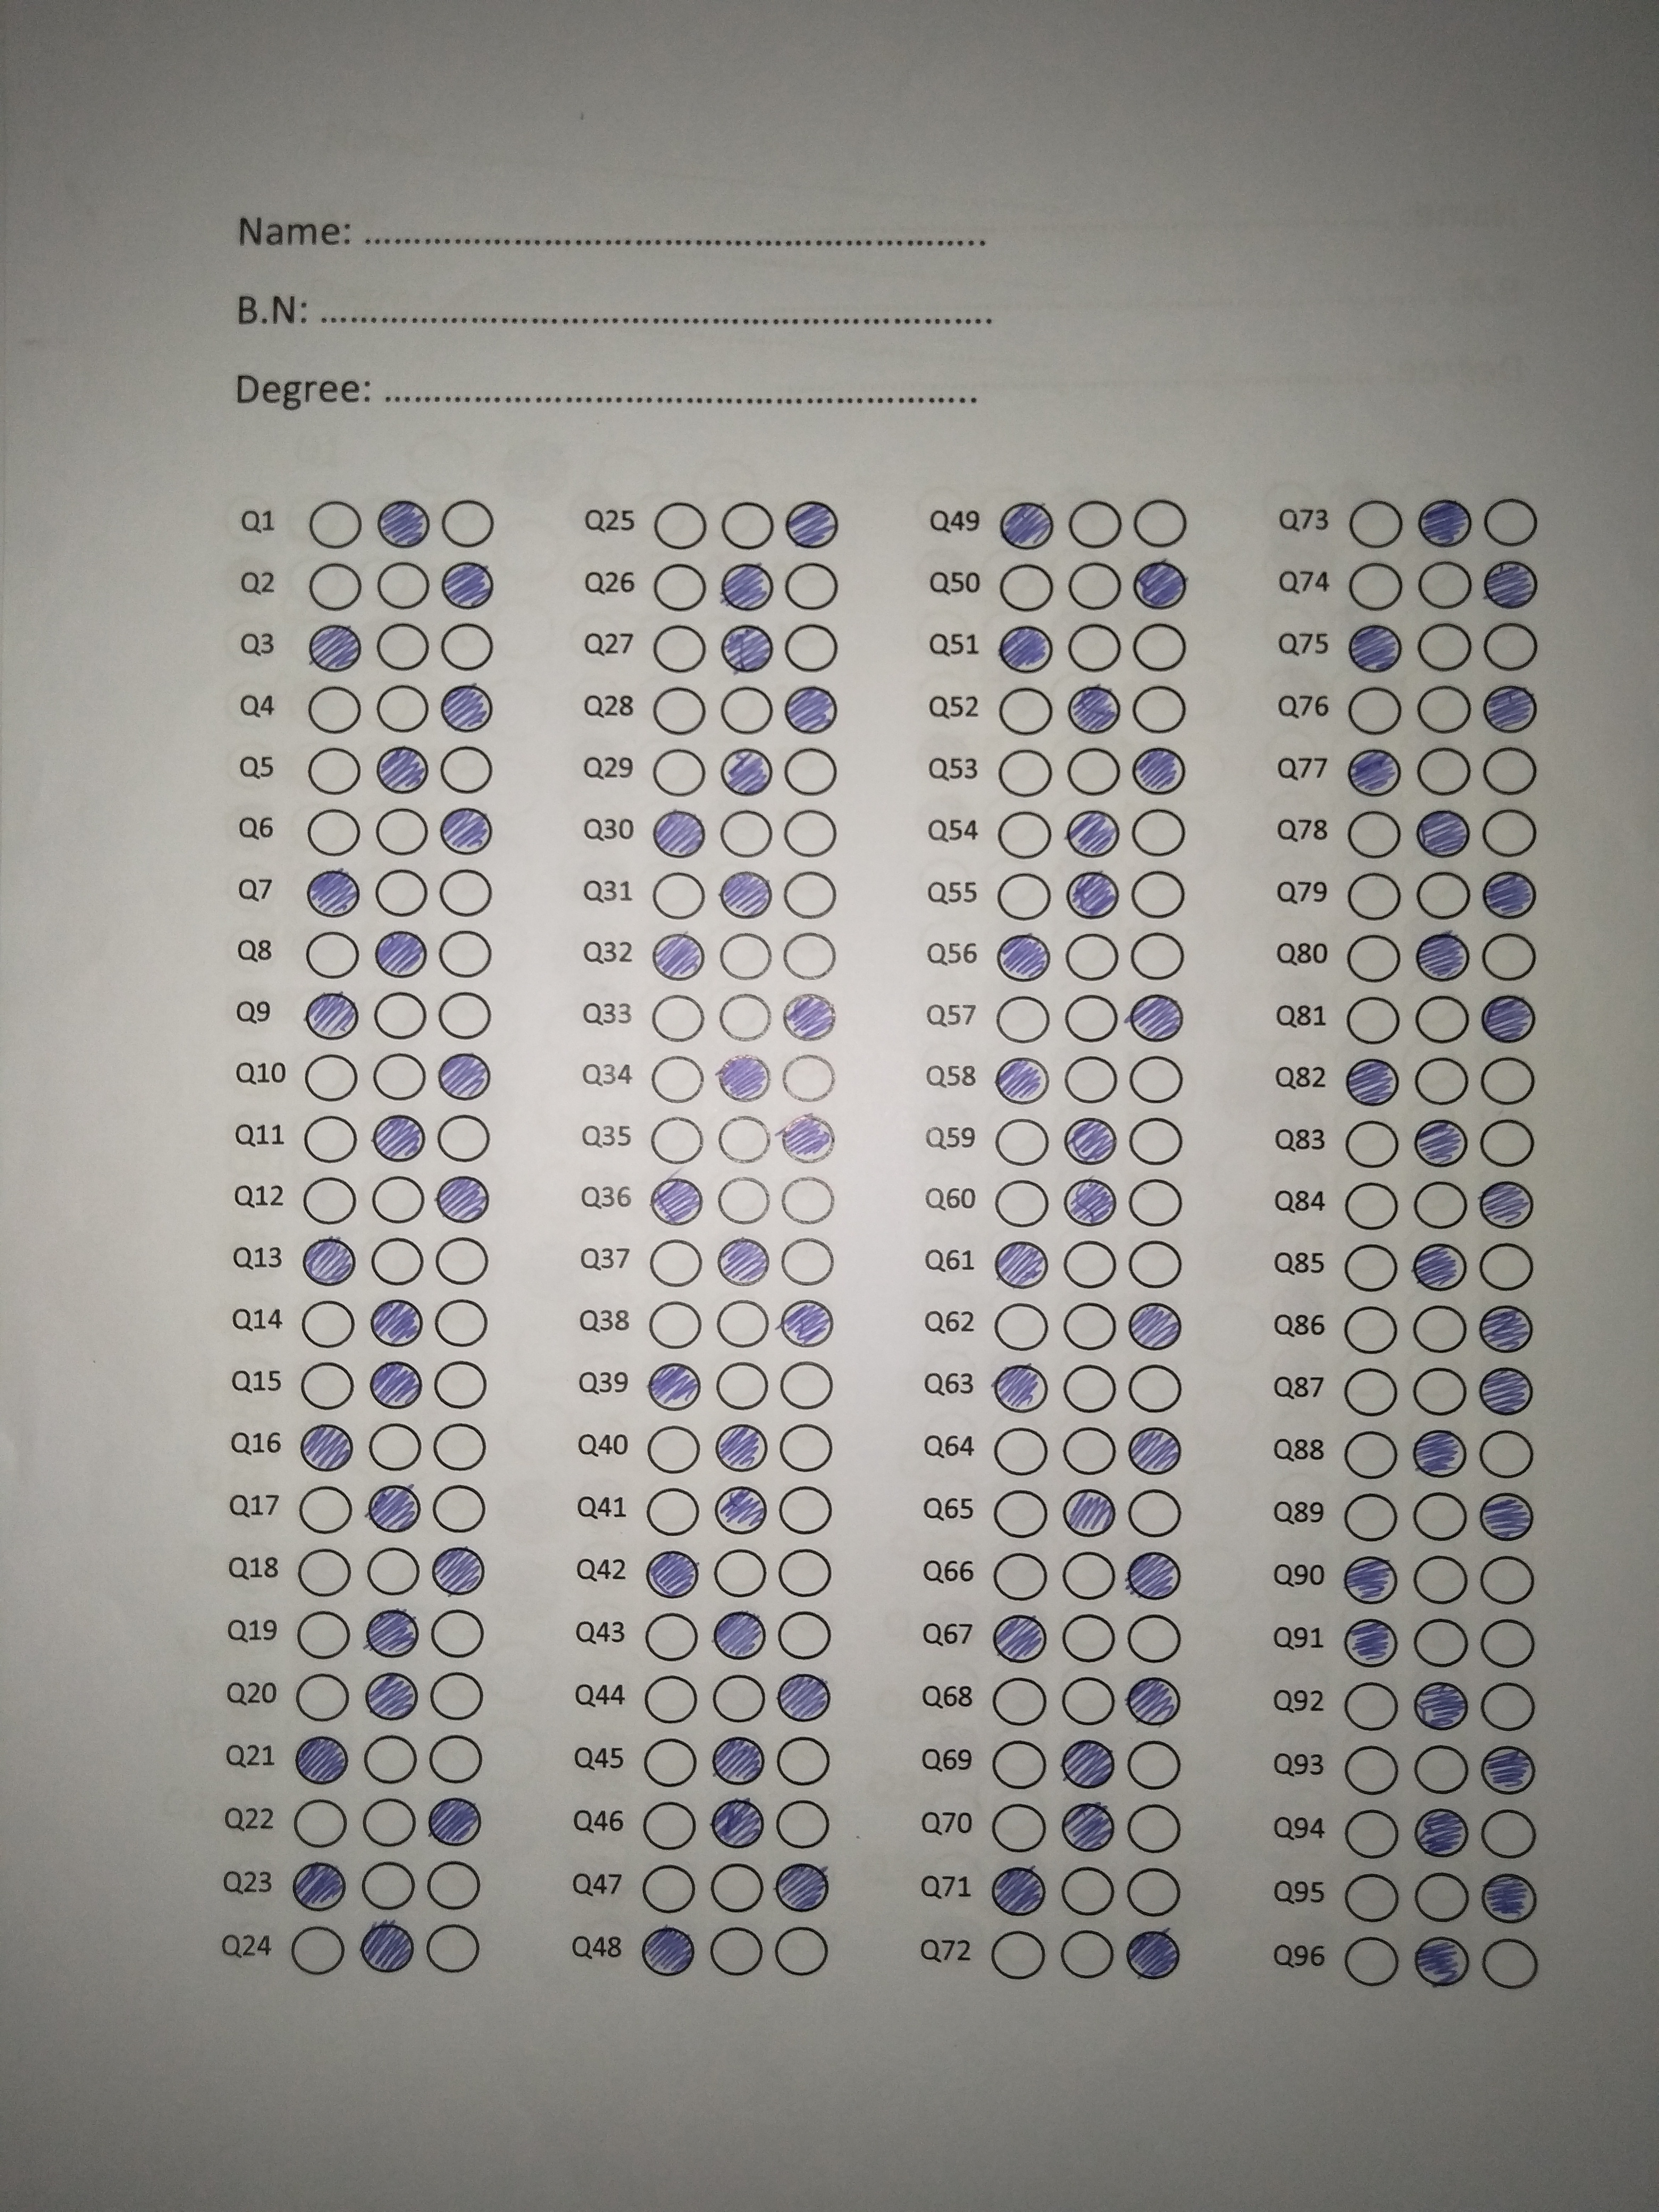not-c: (436, 611, 502, 686), (1405, 1608, 1474, 1676), (1347, 799, 1413, 869), (1474, 1611, 1542, 1677), (1474, 1677, 1542, 1743), (634, 681, 709, 740), (636, 1609, 708, 1670), (1117, 1608, 1190, 1667), (1342, 1669, 1410, 1731), (988, 559, 1060, 618), (985, 1547, 1056, 1606), (986, 1298, 1060, 1355), (437, 493, 502, 557), (1478, 1932, 1542, 1996), (772, 1482, 838, 1545), (988, 1115, 1054, 1177), (305, 493, 366, 561), (650, 495, 718, 556), (1124, 867, 1192, 928), (1054, 1049, 1122, 1109), (1121, 1174, 1188, 1235), (296, 1115, 368, 1172), (1408, 1052, 1480, 1109), (714, 495, 777, 559), (1478, 1047, 1542, 1109), (781, 742, 842, 808), (1480, 493, 1546, 554), (1344, 681, 1410, 742), (293, 1298, 361, 1357), (1054, 1862, 1122, 1921), (988, 747, 1058, 805), (1410, 873, 1480, 930), (777, 927, 849, 982), (1122, 1362, 1194, 1418), (1060, 927, 1122, 989), (429, 1359, 490, 1423), (291, 1670, 355, 1731), (362, 1731, 423, 1796), (708, 1543, 772, 1604), (1478, 801, 1542, 862), (1478, 1115, 1542, 1176), (305, 683, 364, 749), (1061, 624, 1127, 683), (995, 681, 1061, 740), (1338, 1867, 1405, 1926), (425, 1480, 493, 1538), (1337, 1428, 1405, 1486), (288, 1611, 357, 1667), (1403, 1491, 1473, 1547), (288, 1796, 359, 1850), (437, 742, 498, 805), (288, 1919, 350, 1980), (986, 1484, 1049, 1545), (434, 1231, 493, 1296), (718, 681, 775, 747), (1060, 496, 1126, 554), (985, 1425, 1051, 1482), (364, 869, 432, 925), (1337, 1244, 1406, 1298), (641, 747, 713, 799), (366, 1414, 425, 1477), (988, 1925, 1051, 1984), (300, 927, 364, 984), (432, 988, 497, 1045), (647, 1052, 711, 1109), (1126, 686, 1190, 744), (986, 1797, 1051, 1855), (643, 622, 716, 672), (375, 557, 441, 613), (298, 1052, 364, 1108), (296, 1176, 362, 1231), (1478, 1808, 1544, 1864), (1410, 1871, 1476, 1926), (425, 1609, 493, 1663), (770, 1237, 838, 1291), (775, 1420, 835, 1480), (1122, 1111, 1182, 1172), (1060, 1296, 1121, 1355), (1408, 1299, 1467, 1360), (1342, 1362, 1401, 1423), (1344, 1801, 1403, 1862), (775, 869, 847, 920), (373, 683, 436, 740), (437, 930, 500, 988), (369, 1052, 427, 1115), (427, 1670, 490, 1728), (425, 1855, 483, 1918), (713, 1296, 770, 1359), (1127, 808, 1190, 866), (992, 869, 1054, 927), (1126, 932, 1188, 989), (988, 1181, 1051, 1238), (1124, 1238, 1187, 1296), (1056, 1425, 1119, 1482), (1056, 1926, 1119, 1984), (305, 559, 369, 615), (364, 1235, 429, 1291), (714, 808, 779, 864), (1413, 617, 1478, 672), (1338, 1303, 1405, 1357), (782, 559, 842, 618), (779, 1050, 838, 1109), (647, 1233, 706, 1292), (1415, 683, 1474, 742), (436, 864, 493, 925), (369, 1174, 427, 1235), (650, 559, 711, 617), (770, 1733, 831, 1791), (1344, 495, 1405, 552), (1480, 927, 1540, 984), (1345, 1115, 1406, 1172), (1410, 1742, 1471, 1799), (1342, 1935, 1403, 1993), (648, 869, 711, 925), (650, 991, 713, 1047), (1060, 995, 1122, 1050), (1124, 1803, 1187, 1858), (1476, 745, 1539, 801), (1337, 1179, 1401, 1233), (1056, 1240, 1122, 1292), (985, 1740, 1051, 1792), (359, 1858, 418, 1916), (713, 1674, 770, 1733), (993, 993, 1053, 1050), (1061, 1547, 1121, 1604), (1344, 1742, 1403, 1799), (432, 1113, 493, 1169), (777, 622, 847, 671), (775, 1797, 836, 1853), (774, 1925, 835, 1980), (1480, 620, 1540, 676), (1478, 1240, 1539, 1296), (293, 1548, 355, 1602), (357, 1797, 420, 1851), (422, 1923, 484, 1977), (711, 1362, 774, 1416), (1124, 1742, 1188, 1794), (1344, 559, 1408, 611), (1058, 1366, 1124, 1416), (713, 1174, 770, 1231), (645, 1425, 704, 1480), (1066, 561, 1126, 617), (1124, 1867, 1183, 1923), (1412, 1367, 1467, 1426), (1342, 1489, 1401, 1545), (303, 744, 364, 798), (368, 1545, 422, 1606), (775, 1174, 829, 1235), (641, 1487, 702, 1541), (779, 1602, 833, 1663), (1126, 1054, 1187, 1108), (1056, 1676, 1117, 1730), (1476, 1428, 1537, 1482), (296, 1360, 359, 1413), (429, 1423, 491, 1475), (373, 801, 430, 857), (427, 1735, 484, 1791), (643, 1299, 701, 1355), (296, 1484, 355, 1538), (706, 1926, 765, 1980), (1134, 495, 1188, 554), (993, 810, 1053, 864), (427, 1298, 488, 1350), (647, 1115, 708, 1167), (641, 1676, 702, 1728), (641, 1864, 702, 1916), (375, 620, 430, 676), (1417, 554, 1473, 610), (1345, 932, 1401, 988), (718, 993, 775, 1047), (1133, 622, 1190, 676), (1061, 749, 1119, 803), (1410, 993, 1467, 1047), (1408, 1181, 1466, 1235), (373, 986, 425, 1045), (988, 1676, 1047, 1728), (779, 810, 842, 859), (714, 1115, 770, 1169), (641, 1801, 697, 1855), (718, 932, 775, 984), (305, 806, 364, 857), (1417, 749, 1476, 799), (1345, 996, 1405, 1047), (1058, 1615, 1119, 1663), (1483, 1554, 1537, 1608), (777, 1548, 833, 1601), (647, 1737, 697, 1794), (781, 1360, 835, 1413), (713, 1860, 767, 1912), (1122, 1489, 1182, 1536), (1349, 874, 1405, 921), (1412, 1557, 1467, 1602)
taken-c: (364, 1534, 422, 1660), (986, 1862, 1049, 1918), (427, 1541, 486, 1599), (779, 1109, 838, 1167), (1413, 1113, 1473, 1170), (1122, 1672, 1183, 1728), (1408, 1425, 1469, 1480), (359, 1918, 416, 1975), (1342, 1052, 1399, 1109), (641, 1545, 701, 1601), (1131, 557, 1190, 613), (993, 928, 1053, 984), (1124, 1926, 1183, 1982), (1478, 991, 1537, 1047), (1410, 1238, 1469, 1294), (1480, 1867, 1539, 1923), (1415, 1932, 1474, 1987), (1481, 559, 1542, 613), (1412, 928, 1473, 982), (1340, 1552, 1401, 1606), (1412, 1806, 1473, 1860), (437, 556, 495, 611), (308, 618, 366, 674), (293, 1733, 350, 1789), (289, 1857, 347, 1912), (711, 1608, 769, 1663), (1066, 679, 1122, 737), (1061, 1737, 1119, 1792), (1478, 1364, 1535, 1420), (1060, 1113, 1119, 1167), (1060, 1799, 1119, 1853), (1347, 745, 1406, 799), (1342, 1615, 1401, 1669), (1058, 1486, 1119, 1538), (1476, 1177, 1537, 1230), (775, 1860, 831, 1916), (718, 559, 774, 615), (784, 496, 840, 552), (437, 803, 495, 857), (371, 927, 429, 981), (997, 622, 1054, 676), (1127, 989, 1185, 1043), (993, 1052, 1051, 1106), (1126, 1548, 1183, 1602), (990, 1611, 1047, 1665), (1481, 681, 1539, 735), (1412, 1677, 1469, 1731), (434, 1050, 493, 1103), (361, 1670, 420, 1723), (992, 1240, 1051, 1292), (992, 1362, 1051, 1414), (1415, 808, 1474, 860), (1480, 869, 1539, 921), (1478, 1489, 1537, 1541), (1124, 1425, 1185, 1475), (368, 1480, 423, 1534), (427, 1794, 483, 1848), (641, 1923, 697, 1977), (709, 1796, 765, 1850), (777, 1669, 833, 1723), (713, 1484, 769, 1538), (714, 1421, 770, 1475), (645, 1359, 701, 1413), (779, 1296, 835, 1350), (999, 496, 1054, 550), (1127, 1299, 1183, 1353), (1347, 622, 1403, 676), (375, 496, 432, 549), (368, 1359, 425, 1411), (298, 1420, 355, 1472), (648, 1174, 706, 1226), (782, 683, 840, 735), (1063, 869, 1121, 921), (1478, 1301, 1535, 1353), (1061, 1177, 1121, 1228), (1480, 1745, 1539, 1796), (441, 681, 495, 735), (713, 1731, 767, 1785), (718, 1233, 772, 1287), (718, 1050, 772, 1104), (375, 744, 430, 796), (371, 1111, 427, 1163), (781, 991, 836, 1043), (652, 806, 708, 859), (718, 744, 774, 796), (1133, 745, 1188, 798), (1417, 496, 1473, 549), (303, 867, 361, 918), (650, 932, 708, 982), (721, 622, 775, 674), (303, 991, 359, 1042), (436, 1174, 491, 1224), (1066, 810, 1122, 860), (371, 1296, 423, 1348), (718, 869, 772, 920), (301, 1238, 357, 1287)
